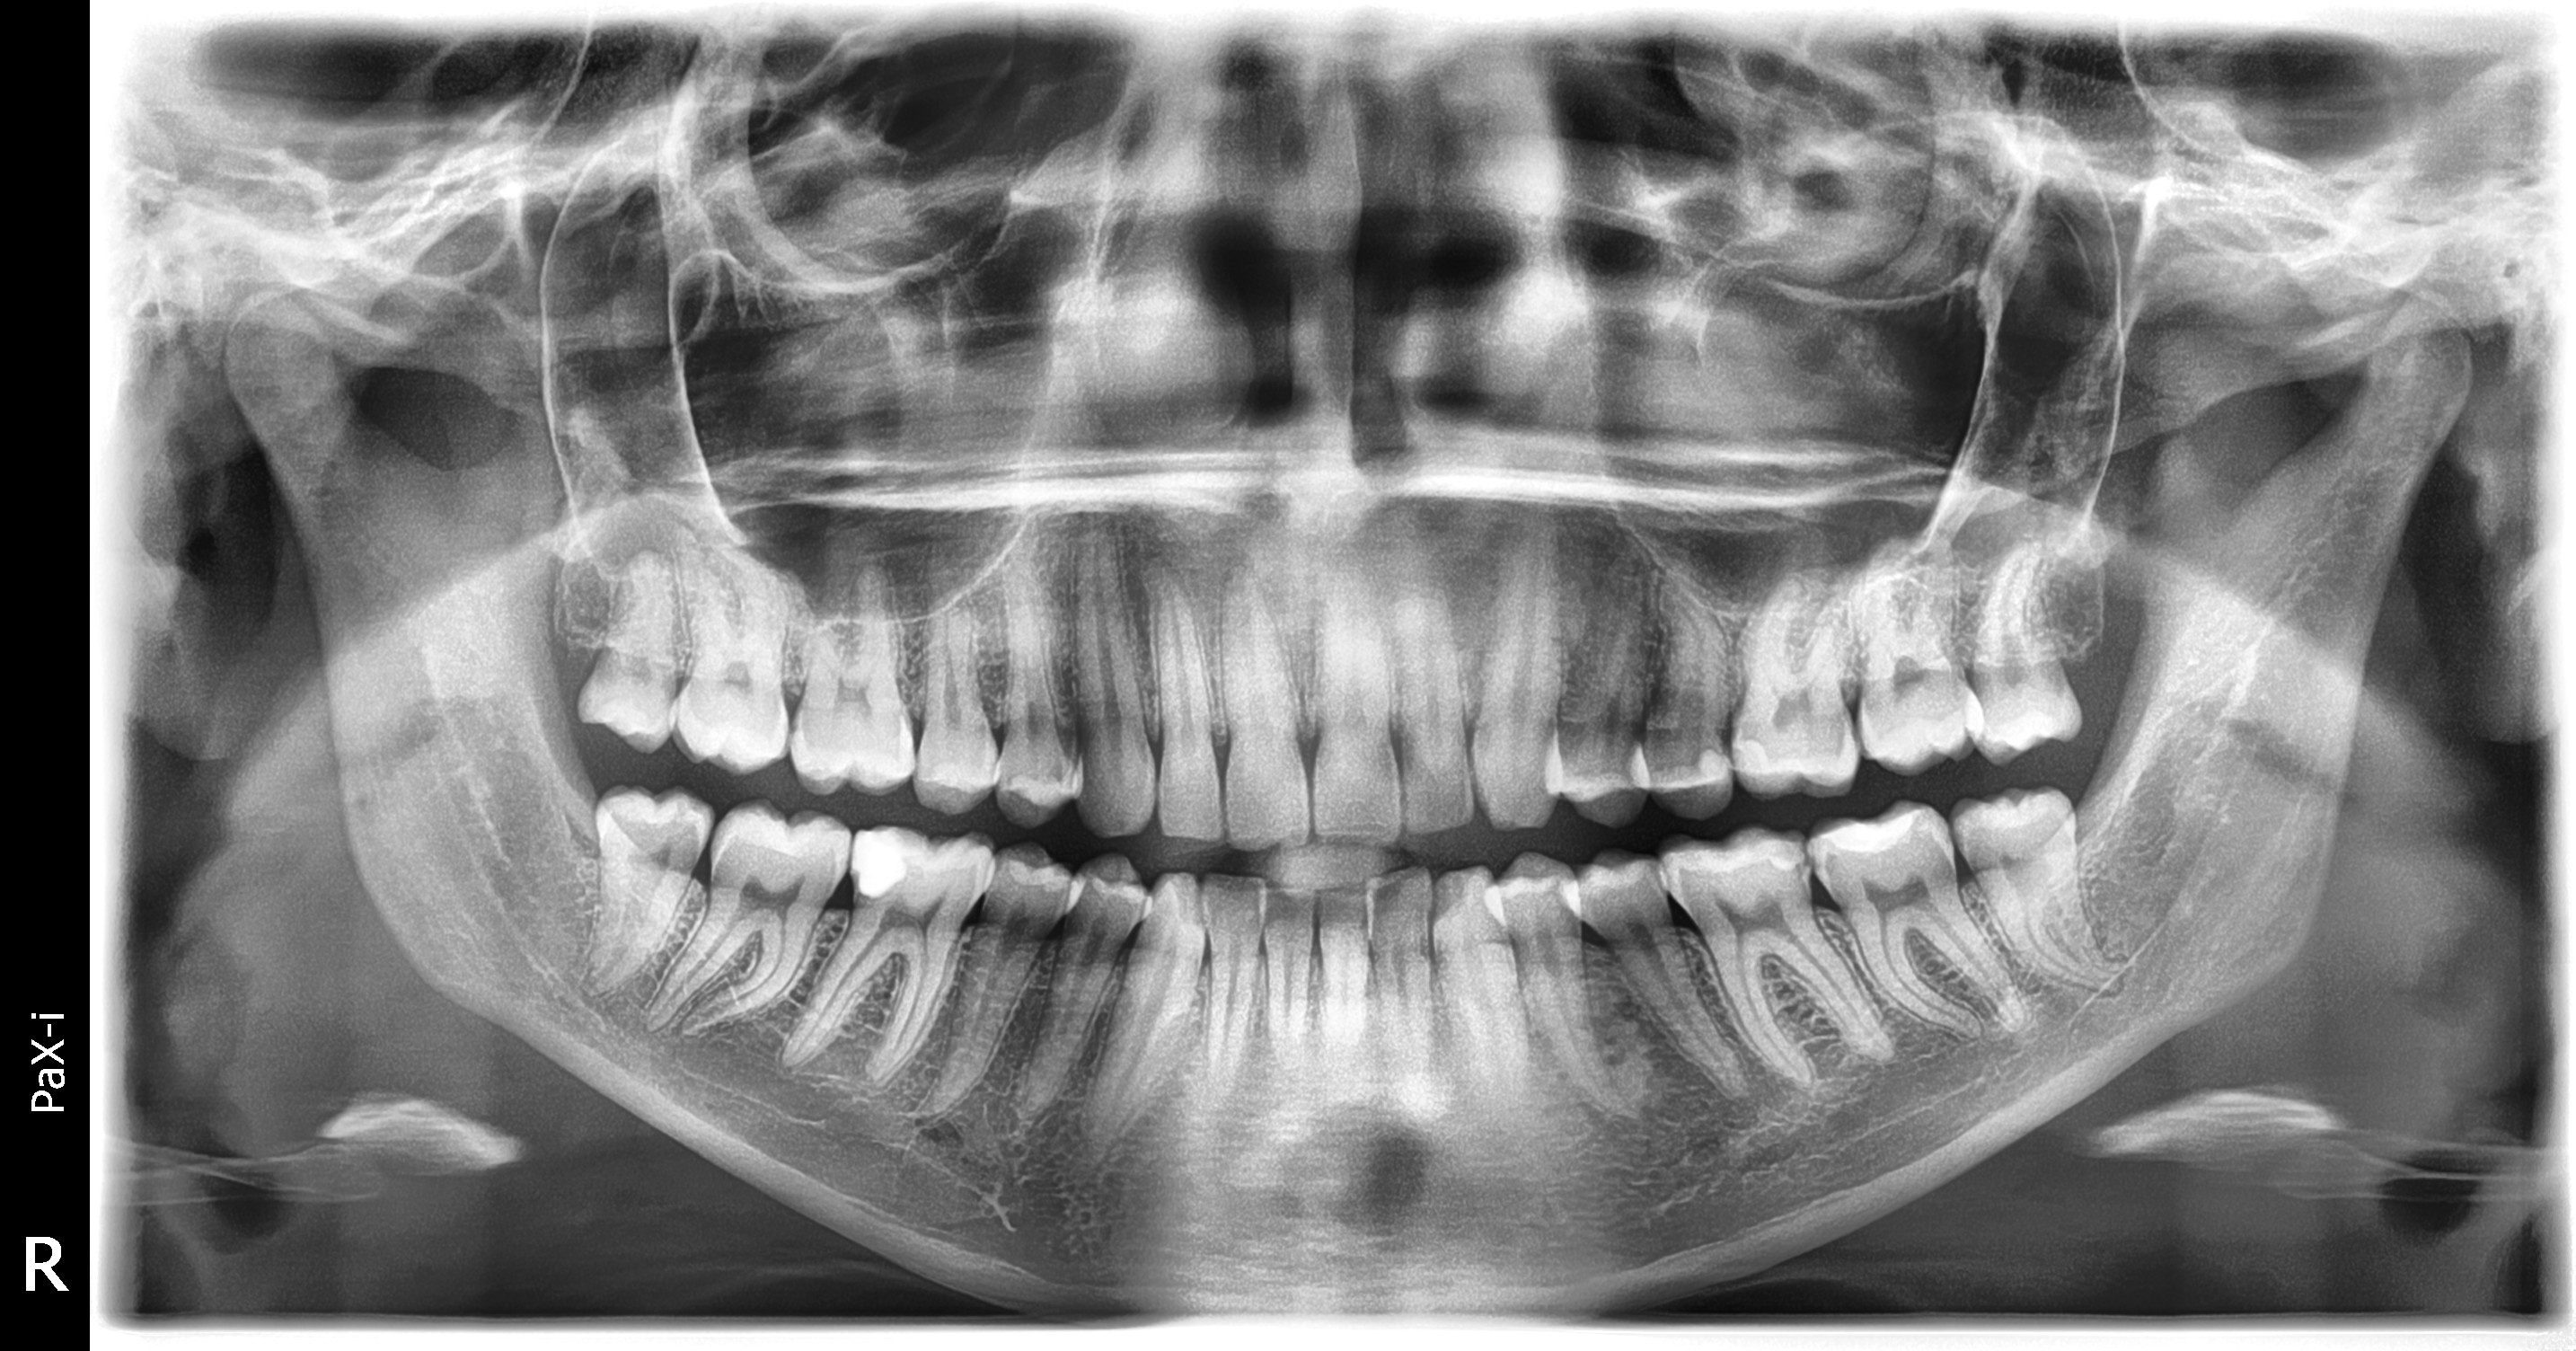CAR: (1763, 845, 1835, 893), (1804, 840, 1849, 881), (1946, 818, 1990, 852)
OBT: (818, 818, 949, 915), (1859, 683, 1973, 782), (1816, 796, 1927, 876), (1983, 681, 2080, 760), (1716, 712, 1809, 790), (588, 678, 661, 744), (1661, 731, 1738, 794)
